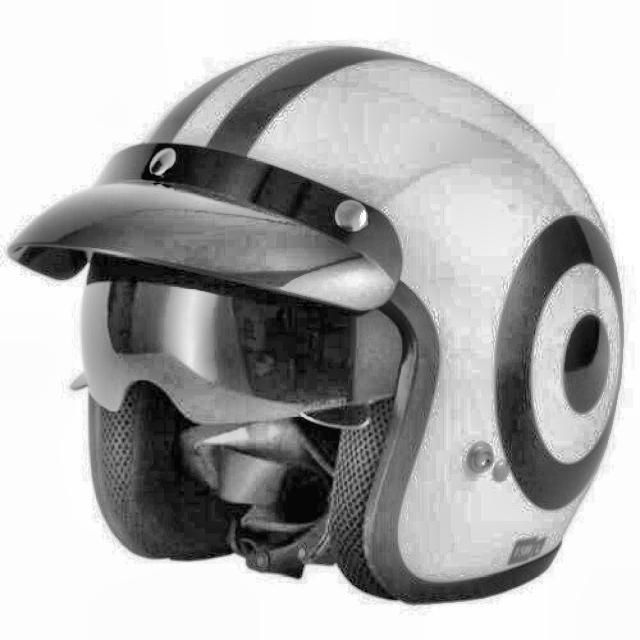Helmet: (4, 37, 640, 626)
